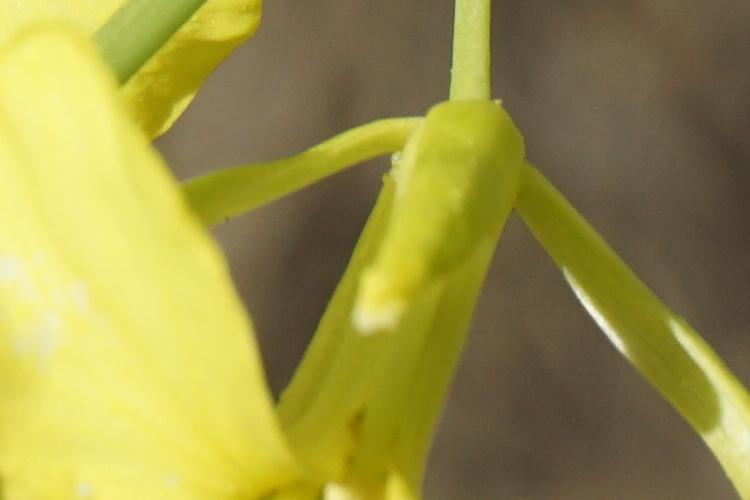yellow: (21, 43, 724, 490)
